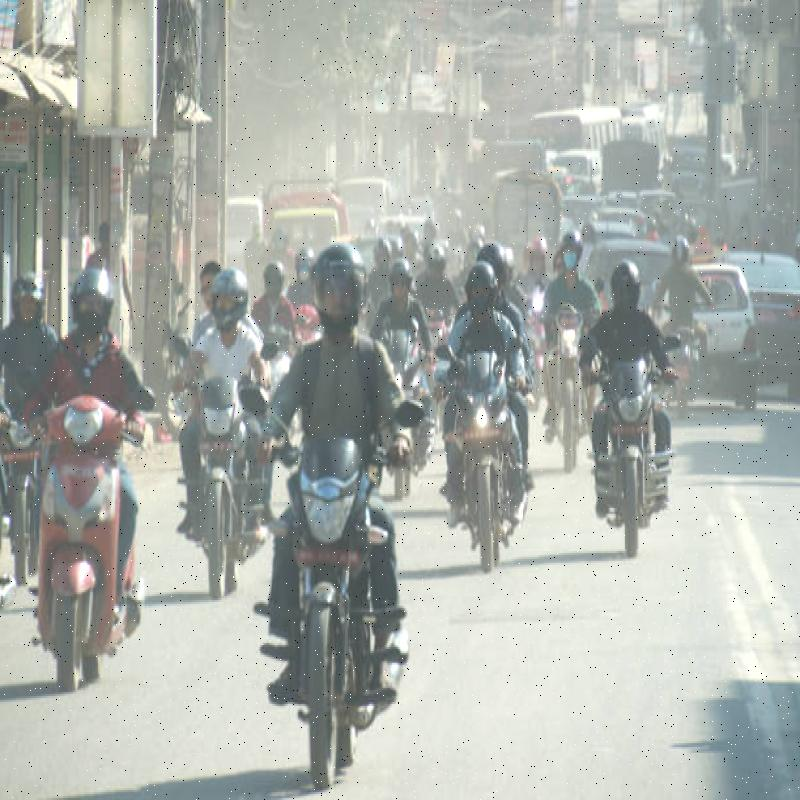bike: (284, 451, 392, 800), (37, 412, 125, 674), (446, 363, 524, 550), (180, 391, 253, 560), (593, 379, 665, 512)
